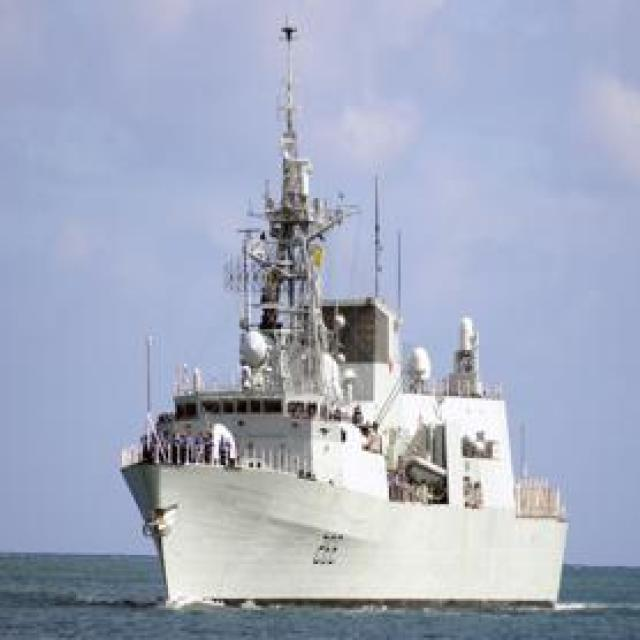navalvessels: (81, 12, 577, 617)
